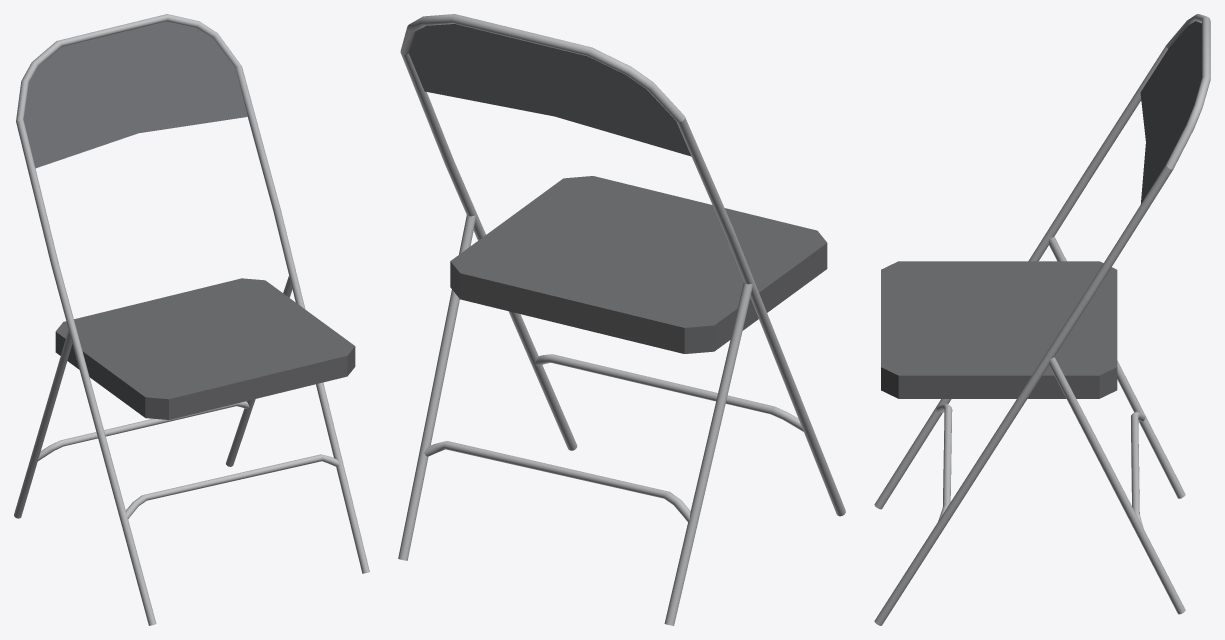
Rendered from Chair 2.fbx.
3 views of the same model, side by side, from view 1: azimuth 30°, elevation 25°; view 2: azimuth 150°, elevation 25°; view 3: azimuth 270°, elevation 25° (orthographic). The views are drawn at different scales.
Parts seen in each view (by area): view 1: Chair_2; view 2: Chair_2; view 3: Chair_2.
Part boxes in pixels (x1,y1,x2,y2): Chair_2: [14, 14, 369, 625]; Chair_2: [398, 14, 845, 625]; Chair_2: [874, 14, 1210, 625].
Bounding box in the file's own units: 53.29 × 104 × 60.65.
